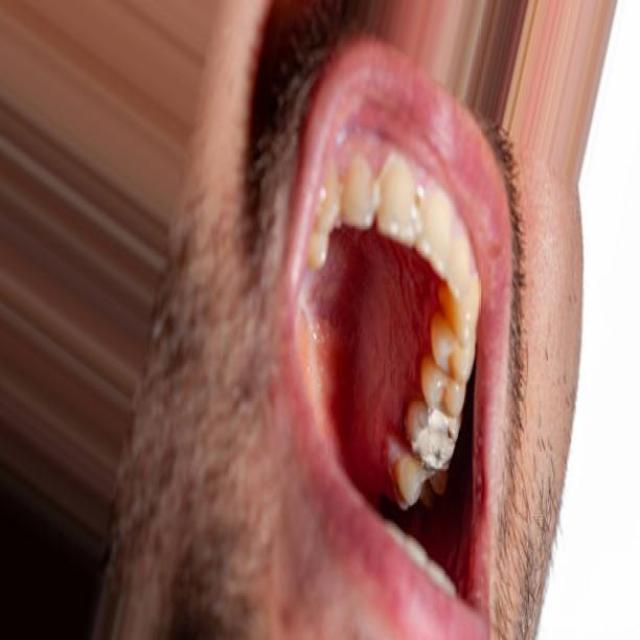caries: (412, 408, 458, 470)
